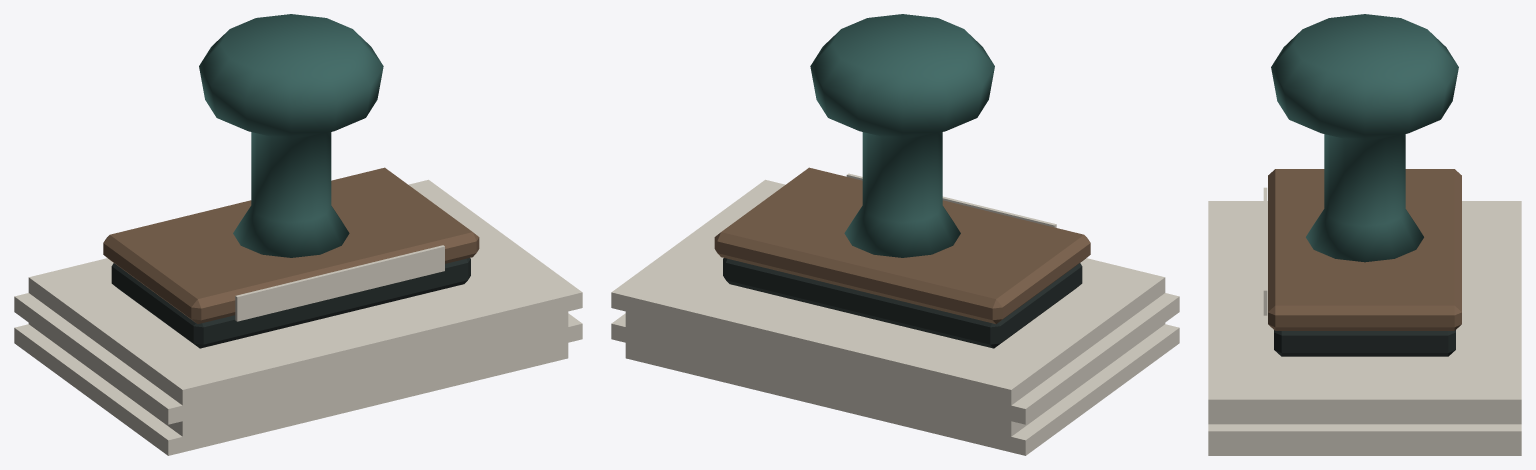
Rendered from tampon-sortie-v01.glb.
3 views of the same model, side by side, from view 1: azimuth 30°, elevation 25°; view 2: azimuth 150°, elevation 25°; view 3: azimuth 270°, elevation 25° (orthographic).
Parts seen in each view (by area): view 1: Formulaire de sortie en quadruple.003, Poignée tournée du tampon, Porte-tampon, Formulaire de sortie en quadruple, Formulaire de sortie en quadruple.002, Semelle du tampon géant, Formulaire de sortie en quadruple.001, Plaque de validation; view 2: Formulaire de sortie en quadruple.003, Poignée tournée du tampon, Porte-tampon, Formulaire de sortie en quadruple, Formulaire de sortie en quadruple.002, Semelle du tampon géant, Formulaire de sortie en quadruple.001, Plaque de validation; view 3: Formulaire de sortie en quadruple.003, Poignée tournée du tampon, Porte-tampon, Formulaire de sortie en quadruple.001, Semelle du tampon géant, Formulaire de sortie en quadruple.002, Formulaire de sortie en quadruple, Plaque de validation.
Part boxes in pixels (x1,y1,x2,y2): Formulaire de sortie en quadruple.003: (28, 179, 582, 405); Poignée tournée du tampon: (199, 14, 383, 257); Porte-tampon: (103, 167, 479, 323); Formulaire de sortie en quadruple: (14, 324, 568, 455); Formulaire de sortie en quadruple.002: (14, 293, 568, 424); Semelle du tampon géant: (111, 258, 470, 348); Formulaire de sortie en quadruple.001: (28, 313, 582, 436); Plaque de validation: (235, 245, 444, 321); Formulaire de sortie en quadruple.003: (611, 179, 1165, 405); Poignée tournée du tampon: (810, 14, 994, 257); Porte-tampon: (714, 167, 1090, 323); Formulaire de sortie en quadruple: (625, 324, 1179, 455); Formulaire de sortie en quadruple.002: (625, 293, 1179, 424); Semelle du tampon géant: (723, 258, 1082, 348); Formulaire de sortie en quadruple.001: (611, 313, 1165, 436); Plaque de validation: (846, 173, 1056, 227); Formulaire de sortie en quadruple.003: (1208, 201, 1521, 415); Poignée tournée du tampon: (1271, 14, 1458, 262); Porte-tampon: (1268, 169, 1461, 330); Formulaire de sortie en quadruple.001: (1208, 424, 1521, 447); Semelle du tampon géant: (1274, 330, 1455, 356); Formulaire de sortie en quadruple.002: (1208, 415, 1521, 424); Formulaire de sortie en quadruple: (1208, 447, 1521, 455); Plaque de validation: (1263, 187, 1267, 315).
Size of the model in its own units: 0.777 by 0.55 by 0.5.
